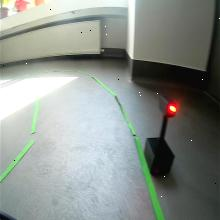red: (158, 93, 178, 118)
